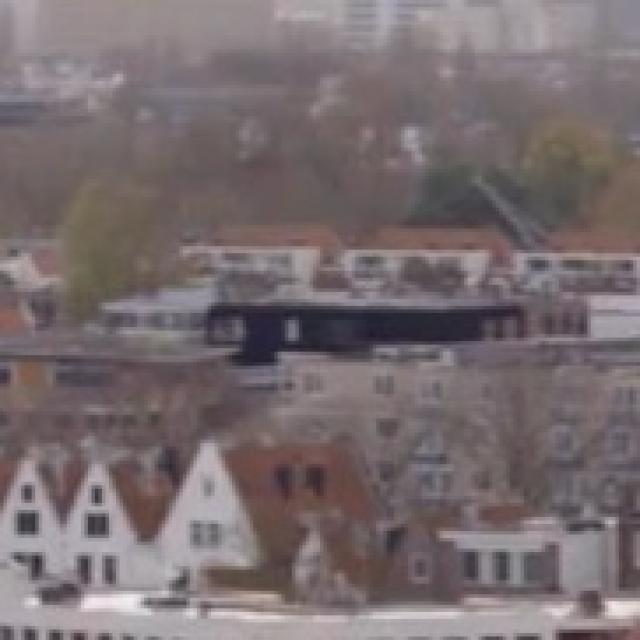iha: (106, 306, 534, 334)
